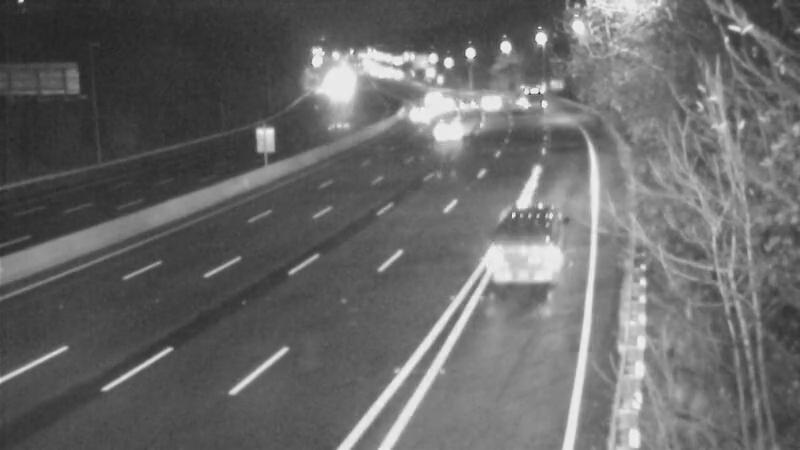vehicle: (467, 231, 547, 311), (504, 68, 554, 118), (466, 79, 516, 129), (442, 84, 492, 134), (395, 84, 445, 134), (419, 99, 469, 149)
